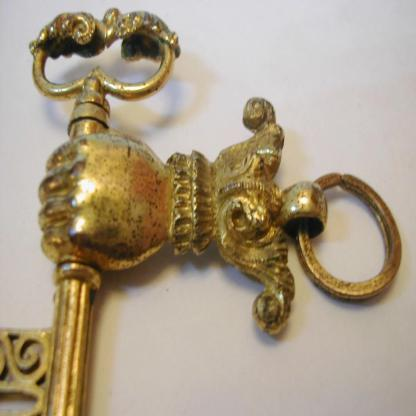key: (8, 13, 173, 416)
